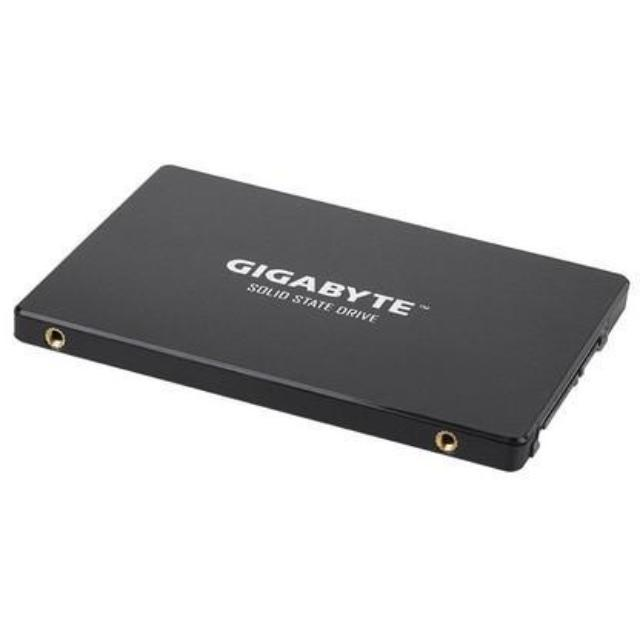DISK: (18, 160, 640, 482)
